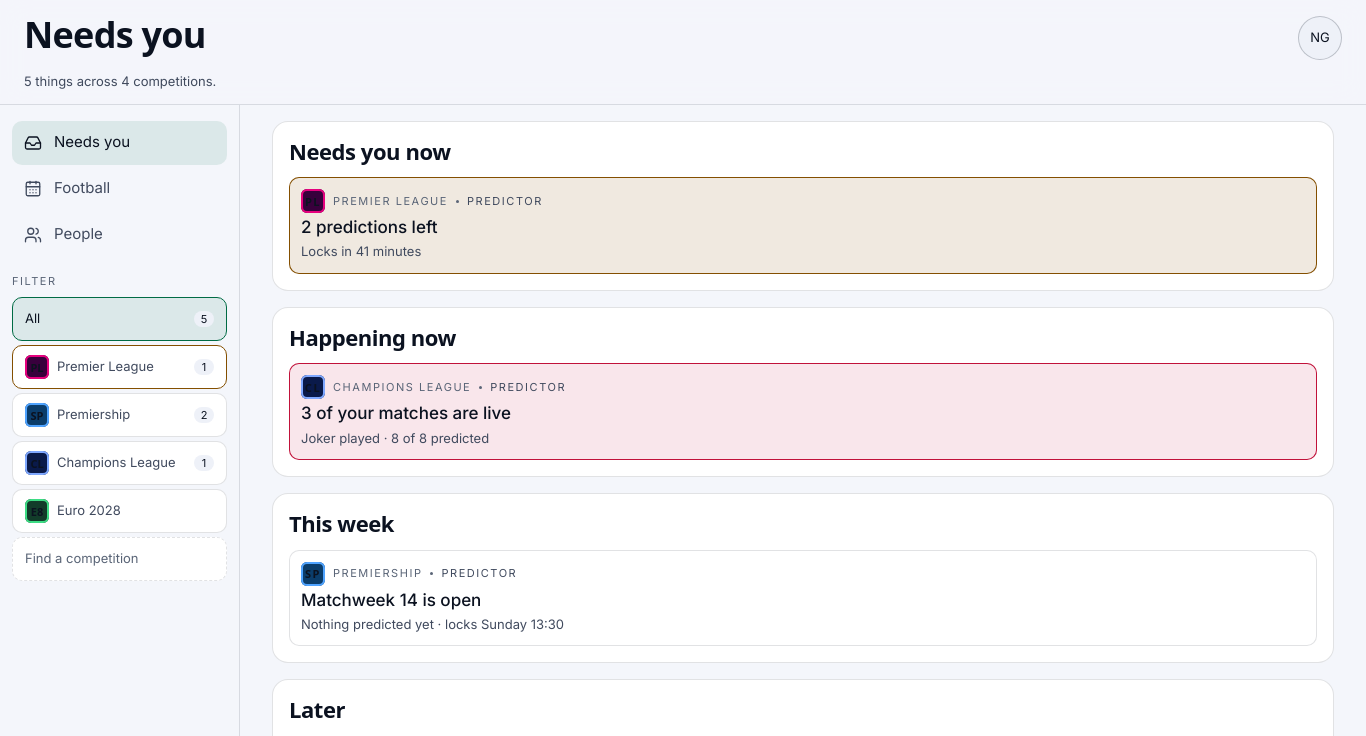
Test: Concept b › player identity — the navigation contract › states the visibility rule rather than implying a public directory
This screenshot has width=1366, height=736.
Click the button "People": [120, 234] box 12,212 -> 227,256
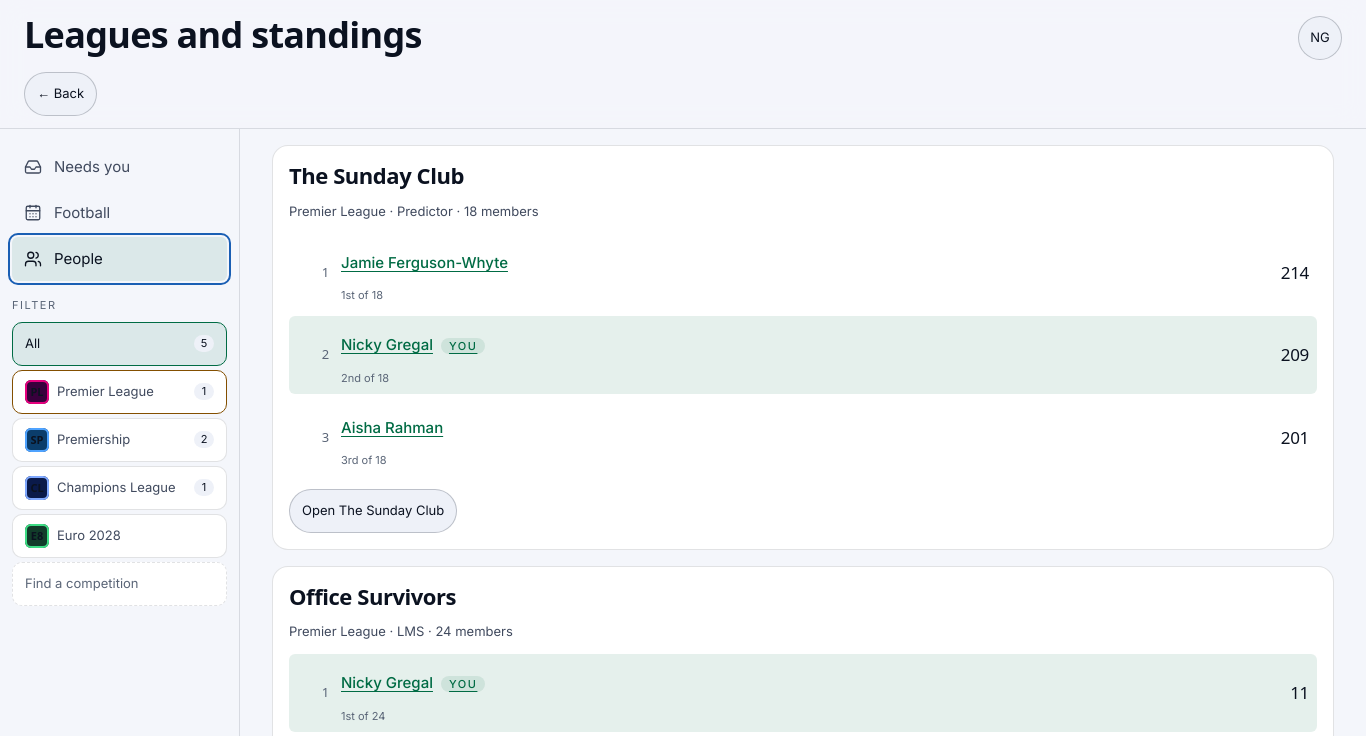
Click the button "Jamie Ferguson-Whyte": [424, 262] box 341,241 -> 1269,285
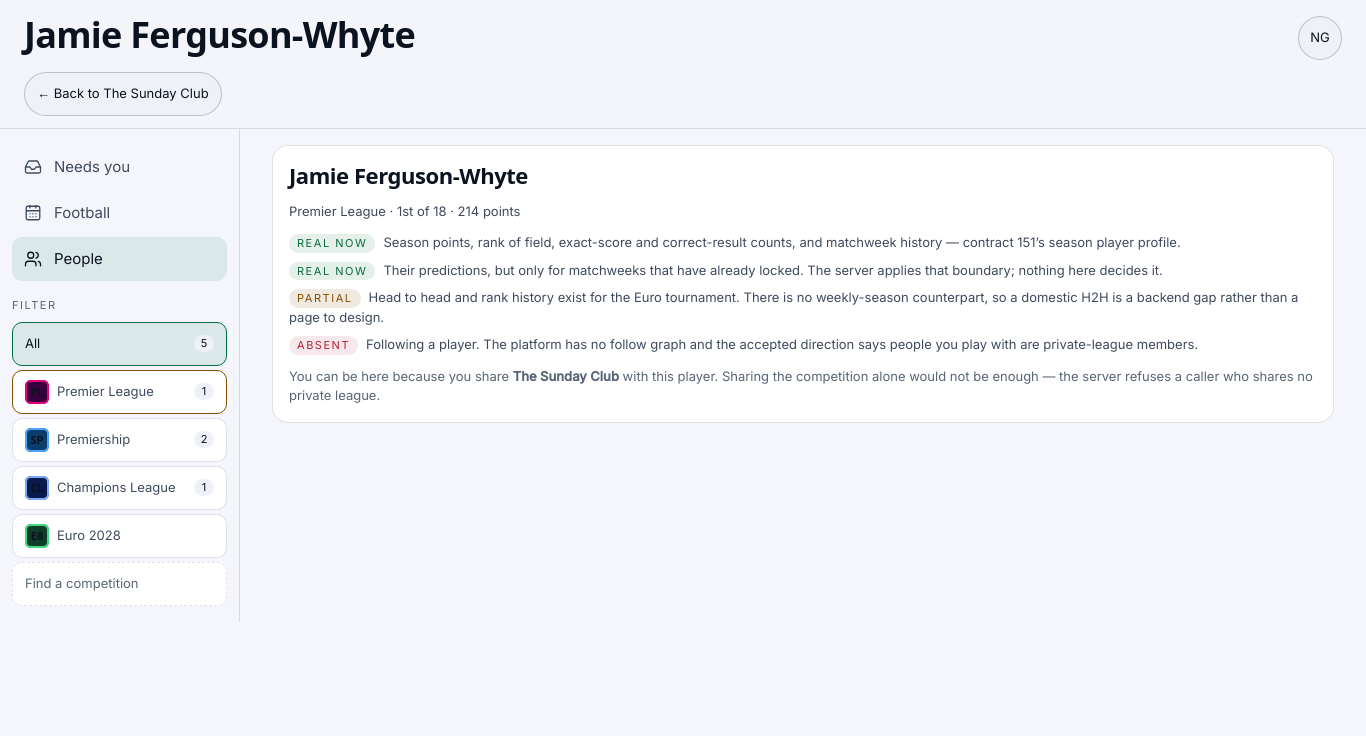
Expected: the text "The Sunday Club" is shown, 24,72 -> 222,116
Expected: the text "share" is shown, 289,368 -> 513,384
